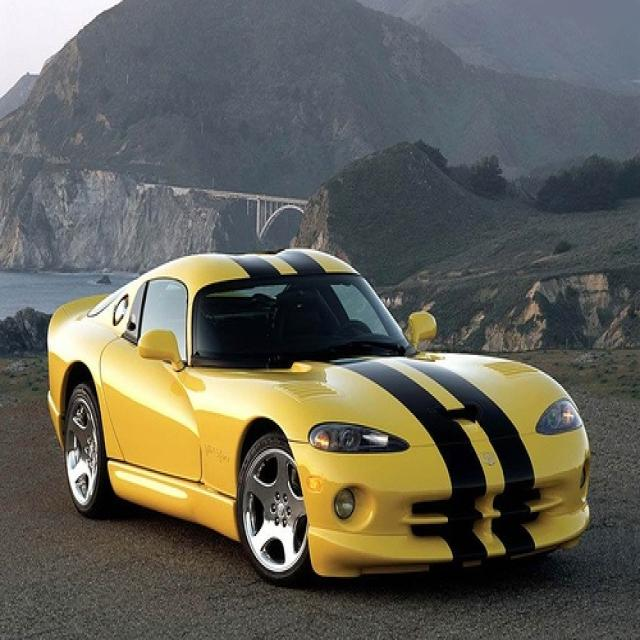car: (45, 250, 594, 586)
